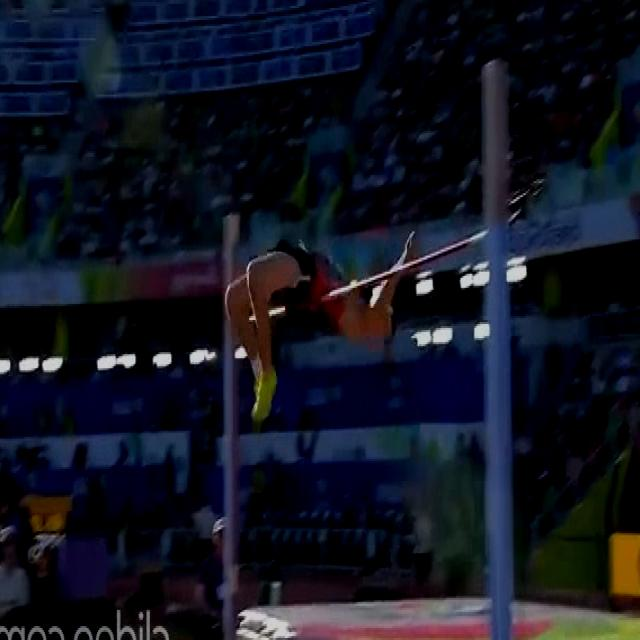jump: (219, 227, 419, 419)
